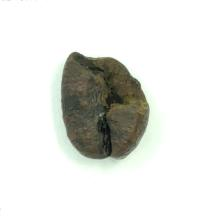NG: (68, 38, 150, 118)
